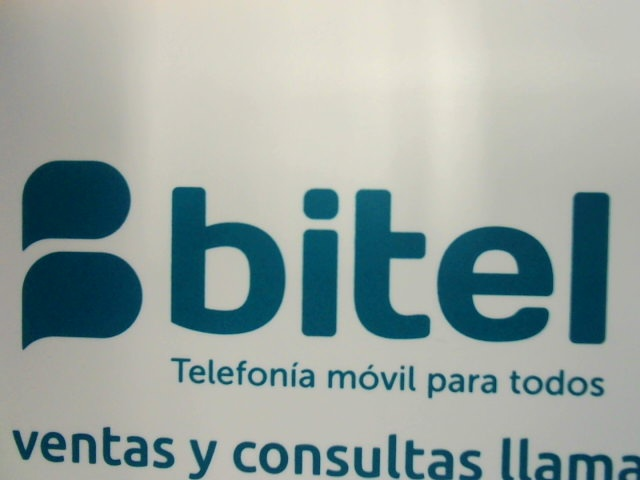BE_bitel: (13, 157, 632, 355)
